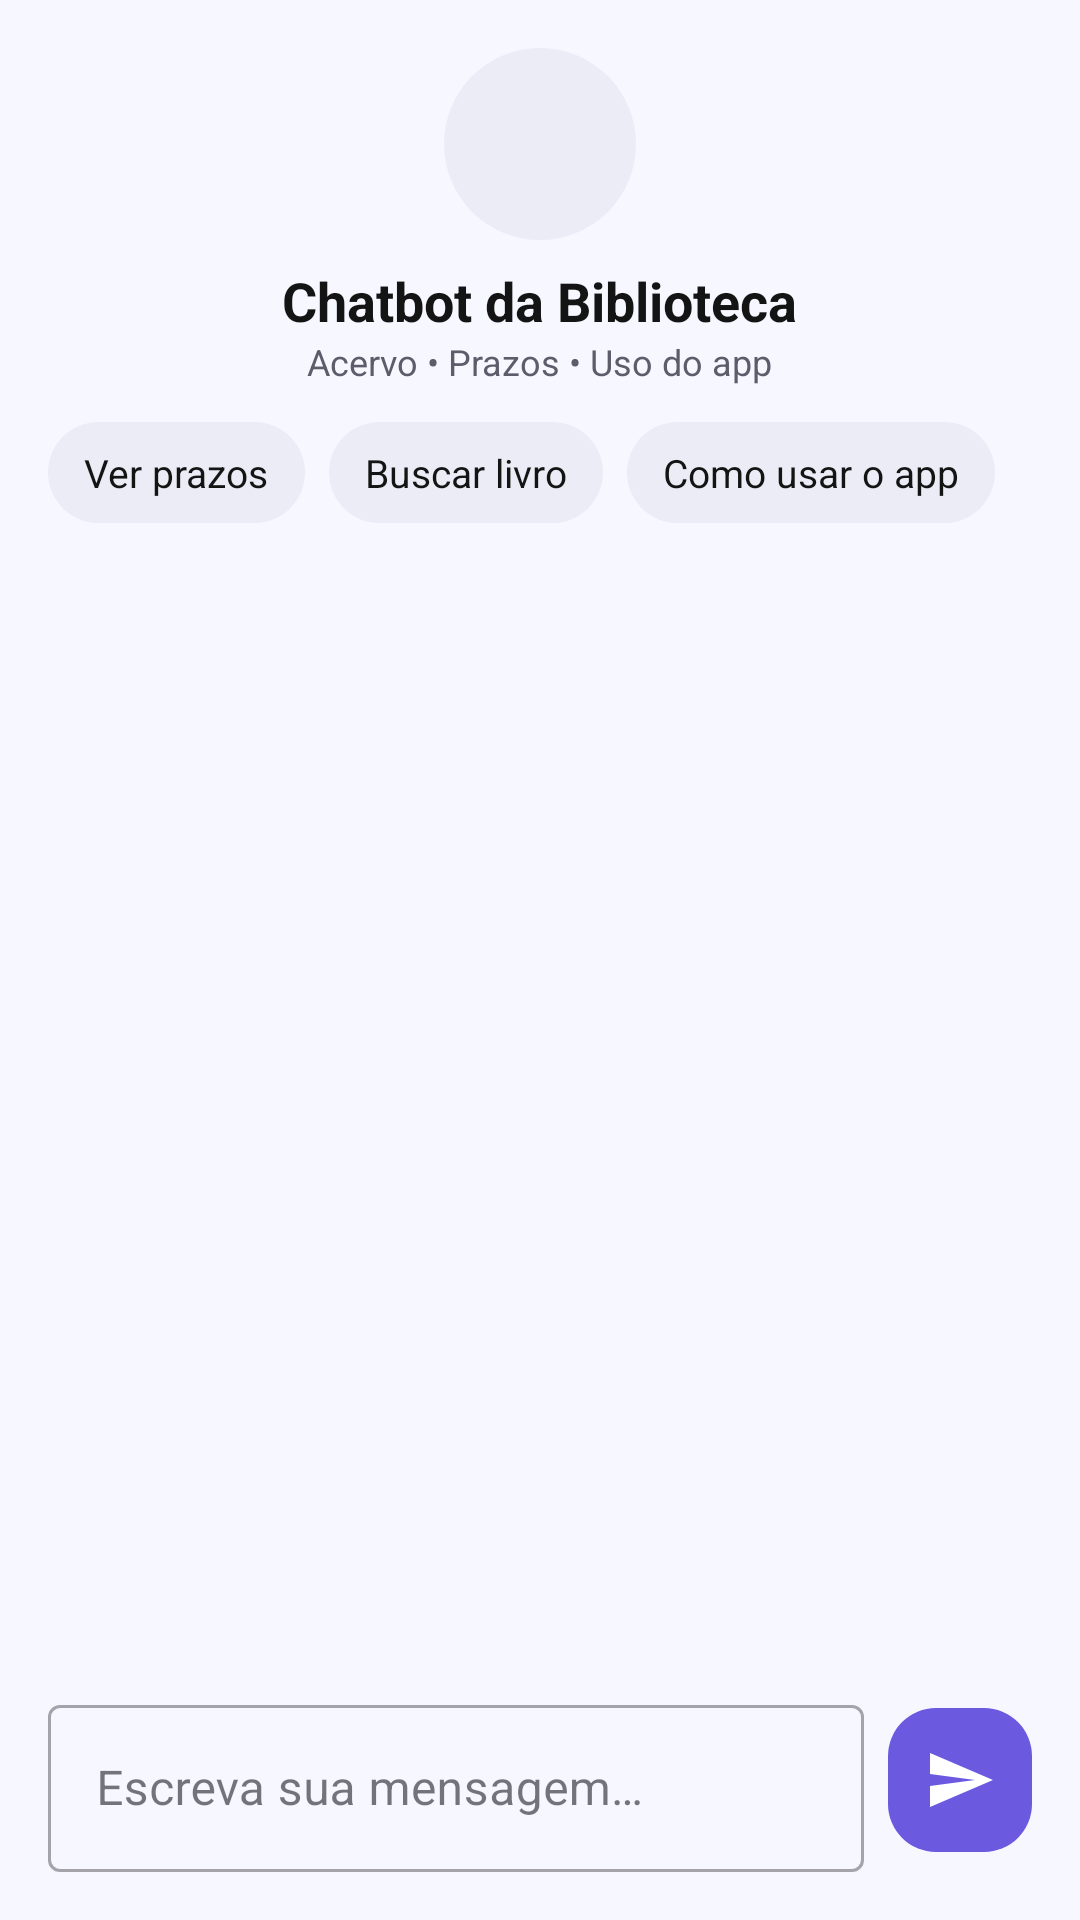

Where to tap for icons on this 1080px x 1920px app screen, as (x,y):
send: (960,1780)
